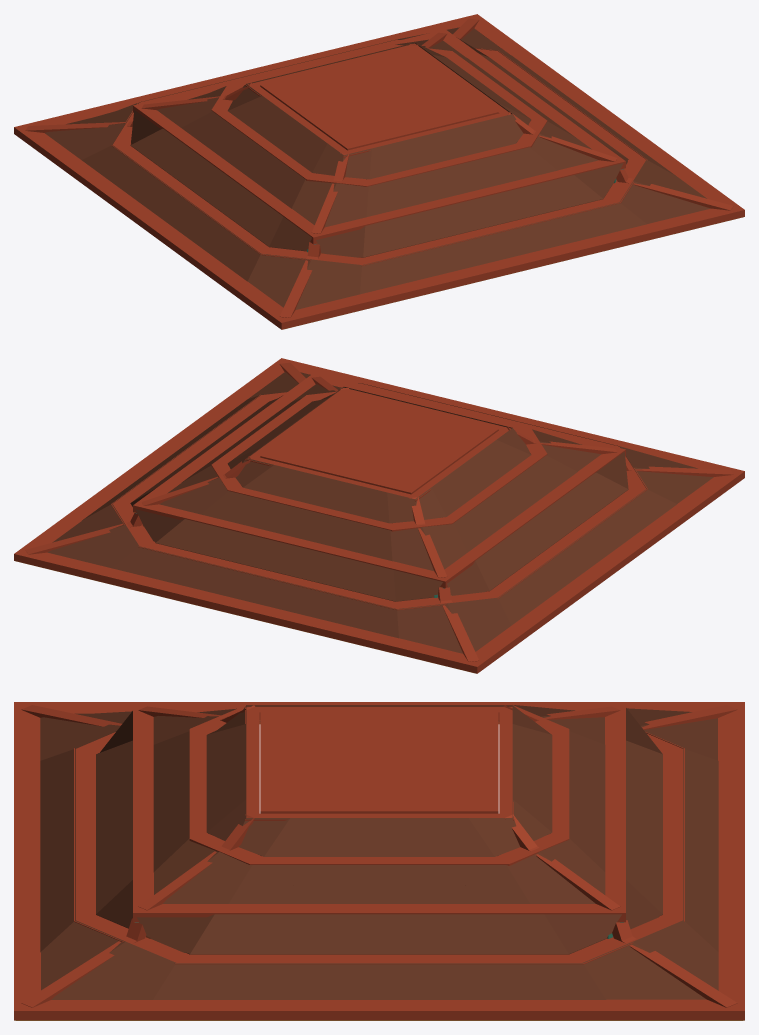
Rendered from three-hares-caisson.glb.
3 renders of one model, top to bottom at view 1: azimuth 30°, elevation 25°; view 2: azimuth 150°, elevation 25°; view 3: azimuth 270°, elevation 25°, orthographic. The views are drawn at different scales.
Visible parts, largest first — view 1: three-hares-caisson-slope-1, three-hares-caisson-frame-1, three-hares-caisson-slope-2, three-hares-caisson-slope-3, three-hares-caisson-center-backing, three-hares-caisson-slope-4, three-hares-caisson-frame-2, three-hares-caisson-frame-3, three-hares-caisson-frame-4, three-hares-caisson-frame-5, three-hares-caisson-corner-brace-1-3, three-hares-caisson-corner-brace-1-2 (+2 smaller); view 2: three-hares-caisson-slope-1, three-hares-caisson-frame-1, three-hares-caisson-slope-2, three-hares-caisson-slope-3, three-hares-caisson-center-backing, three-hares-caisson-slope-4, three-hares-caisson-frame-2, three-hares-caisson-frame-3, three-hares-caisson-frame-4, three-hares-caisson-frame-5, three-hares-caisson-corner-brace-1-1, three-hares-caisson-corner-brace-1-0 (+1 smaller); view 3: three-hares-caisson-slope-1, three-hares-caisson-frame-1, three-hares-caisson-slope-2, three-hares-caisson-slope-3, three-hares-caisson-center-backing, three-hares-caisson-slope-4, three-hares-caisson-frame-2, three-hares-caisson-frame-3, three-hares-caisson-frame-4, three-hares-caisson-frame-5, three-hares-caisson-corner-brace-1-0, three-hares-caisson-corner-brace-1-3 (+6 smaller).
Part boxes in pixels (x1,y1,x2,y2): three-hares-caisson-slope-1: [45, 27, 710, 309]; three-hares-caisson-frame-1: [14, 14, 744, 329]; three-hares-caisson-slope-2: [130, 37, 628, 257]; three-hares-caisson-slope-3: [157, 39, 598, 227]; three-hares-caisson-center-backing: [260, 48, 498, 150]; three-hares-caisson-slope-4: [228, 42, 531, 179]; three-hares-caisson-frame-2: [111, 39, 647, 266]; three-hares-caisson-frame-3: [133, 29, 625, 244]; three-hares-caisson-frame-4: [211, 44, 547, 186]; three-hares-caisson-frame-5: [245, 43, 513, 157]; three-hares-caisson-corner-brace-1-3: [624, 178, 733, 210]; three-hares-caisson-corner-brace-1-2: [279, 256, 318, 317]; three-hares-caisson-slope-1: [48, 372, 713, 653]; three-hares-caisson-frame-1: [14, 358, 744, 673]; three-hares-caisson-slope-2: [130, 395, 628, 601]; three-hares-caisson-slope-3: [159, 384, 600, 570]; three-hares-caisson-center-backing: [260, 392, 498, 494]; three-hares-caisson-slope-4: [227, 387, 530, 523]; three-hares-caisson-frame-2: [111, 383, 647, 610]; three-hares-caisson-frame-3: [133, 373, 625, 588]; three-hares-caisson-frame-4: [211, 388, 547, 531]; three-hares-caisson-frame-5: [245, 387, 513, 501]; three-hares-caisson-corner-brace-1-1: [440, 600, 479, 661]; three-hares-caisson-corner-brace-1-0: [25, 522, 134, 554]; three-hares-caisson-slope-1: [40, 708, 718, 999]; three-hares-caisson-frame-1: [14, 702, 744, 1020]; three-hares-caisson-slope-2: [96, 708, 662, 954]; three-hares-caisson-slope-3: [153, 705, 605, 903]; three-hares-caisson-center-backing: [260, 711, 498, 813]; three-hares-caisson-slope-4: [206, 705, 552, 856]; three-hares-caisson-frame-2: [74, 723, 684, 964]; three-hares-caisson-frame-3: [133, 704, 625, 922]; three-hares-caisson-frame-4: [189, 703, 569, 865]; three-hares-caisson-frame-5: [245, 706, 513, 820]; three-hares-caisson-corner-brace-1-0: [620, 936, 737, 1007]; three-hares-caisson-corner-brace-1-3: [21, 936, 139, 1007].
Size of the model in its own units: 15.2 by 2.43 by 15.2.
